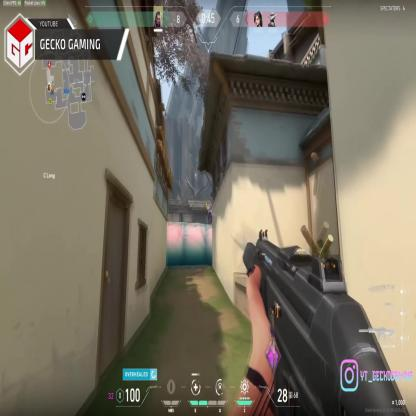enemy: (208, 201, 213, 224)
enemy_head: (209, 200, 211, 204)
